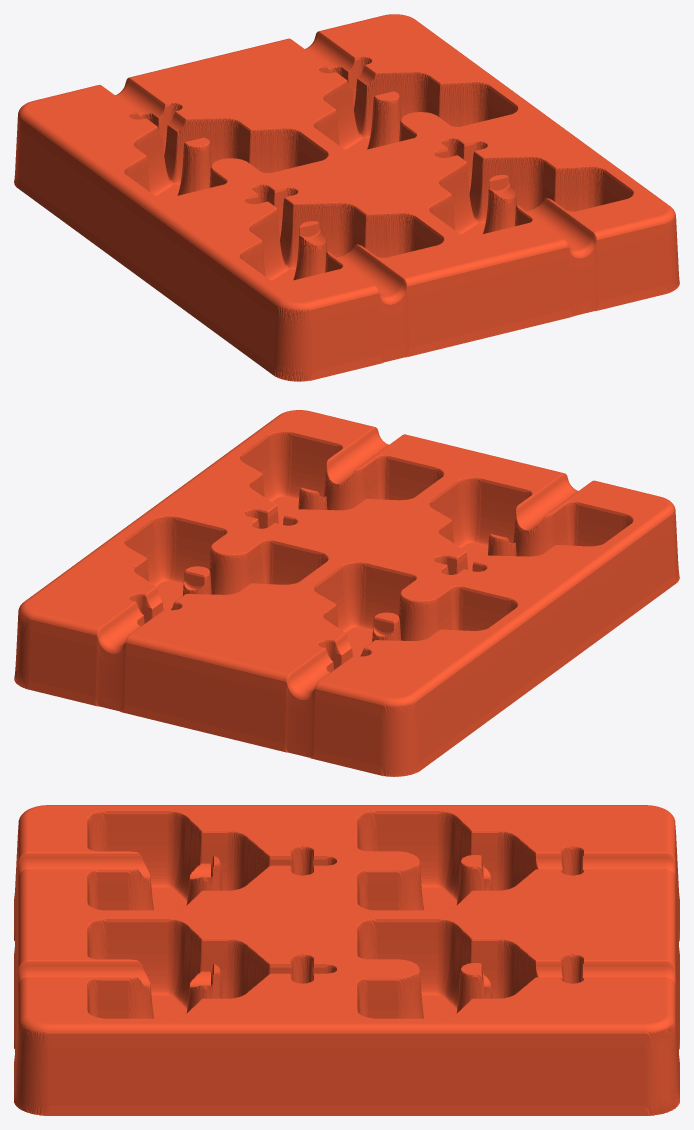
The model's file is mold.glb.
3 renders of one model, top to bottom at view 1: azimuth 30°, elevation 25°; view 2: azimuth 150°, elevation 25°; view 3: azimuth 270°, elevation 25°, orthographic. The views are drawn at different scales.
Parts seen in each view (by area): view 1: geometry_0; view 2: geometry_0; view 3: geometry_0.
Part boxes in pixels (bbox=[...]): geometry_0: bbox=[14, 14, 679, 381]; geometry_0: bbox=[14, 410, 679, 776]; geometry_0: bbox=[14, 805, 679, 1115].
Size of the model in its own units: 0.1394 by 0.0245 by 0.171.
